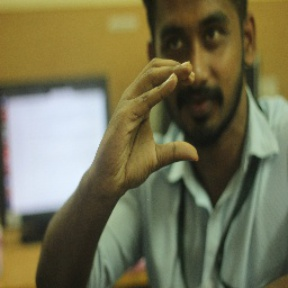C: (112, 56, 203, 173)
